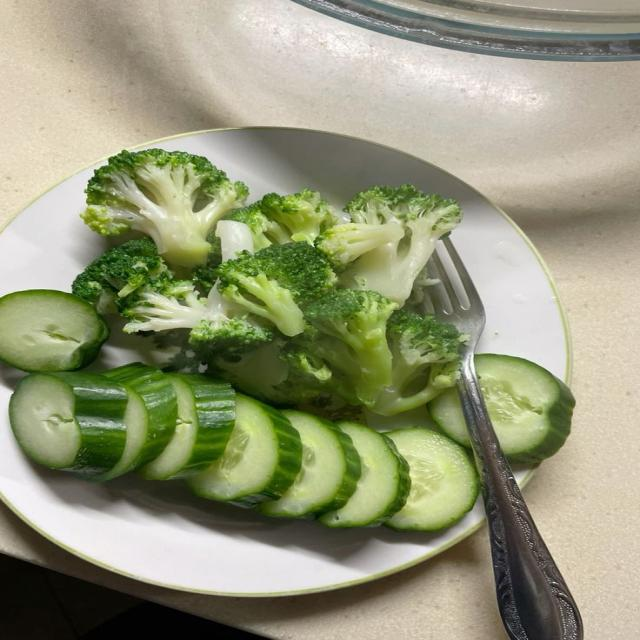broccoli: (81, 149, 247, 267), (344, 184, 461, 305), (121, 281, 273, 361), (216, 243, 336, 335), (304, 290, 397, 405), (371, 311, 466, 415), (72, 238, 171, 312), (213, 338, 317, 406), (228, 189, 337, 250), (279, 327, 359, 404), (193, 220, 253, 294), (315, 223, 404, 272), (227, 201, 292, 251)
cucumber sliced: (185, 394, 301, 507), (9, 371, 128, 481), (257, 410, 359, 518), (477, 354, 574, 463), (139, 374, 235, 480), (317, 422, 410, 528), (386, 427, 477, 530), (98, 362, 177, 480), (0, 289, 109, 372), (429, 389, 470, 448)
